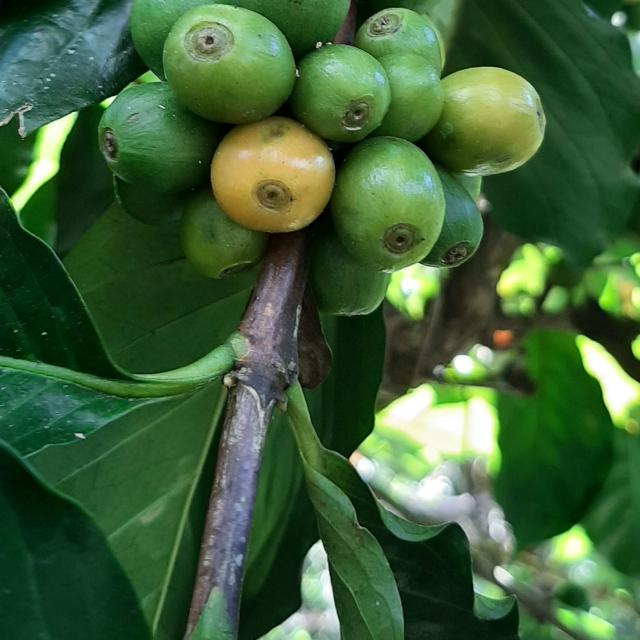green: (162, 3, 296, 123), (329, 136, 446, 272), (98, 81, 224, 193), (290, 44, 391, 142), (310, 213, 390, 316), (180, 187, 268, 279), (129, 0, 215, 79), (371, 52, 445, 142), (422, 165, 484, 268), (237, 0, 349, 55), (355, 7, 445, 72), (113, 175, 186, 225)
yellow: (210, 116, 335, 232), (423, 66, 547, 175)
